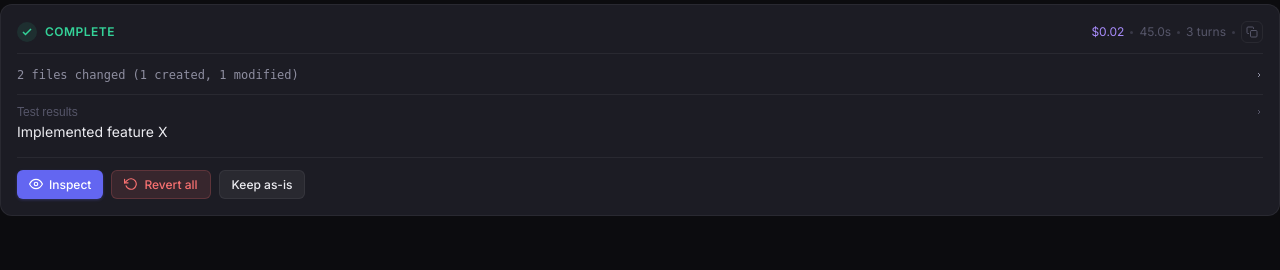
Test case: CompletionCard › test results › expands test output on click
This screenshot has width=1280, height=270.
Click the button "Test results" at coordinates (47, 112), box [17,103,1263,121]
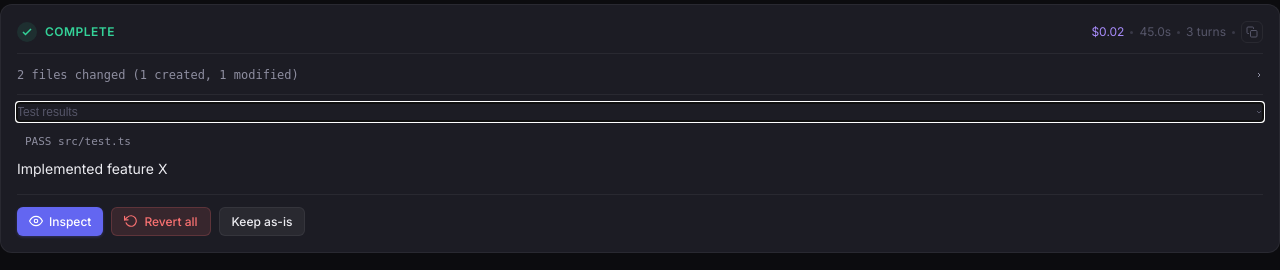
Now the text "PASS src/test.ts" is shown, box [25,135,131,148]
